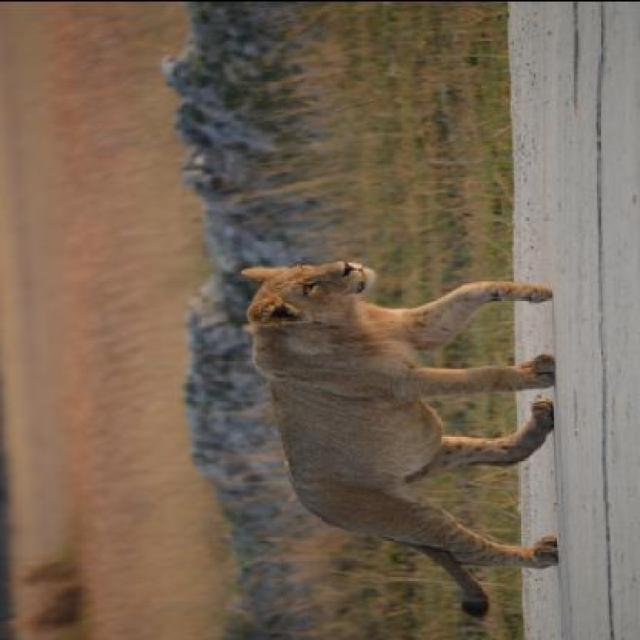Lion: (238, 254, 574, 620)
